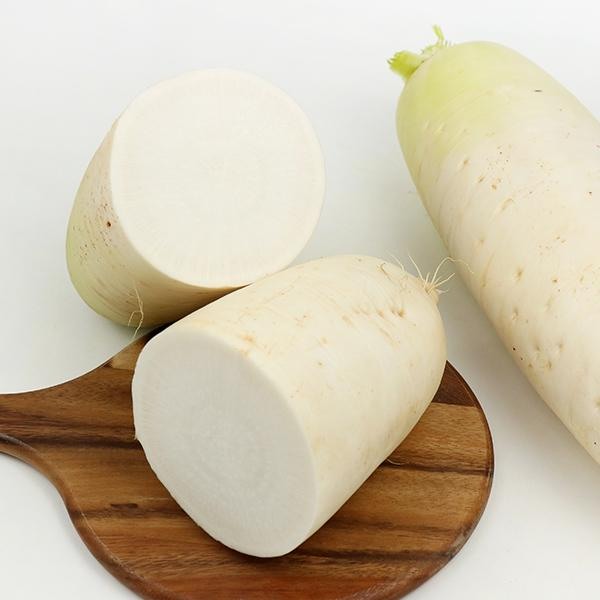radish: (165, 271, 407, 493), (88, 83, 260, 291)
